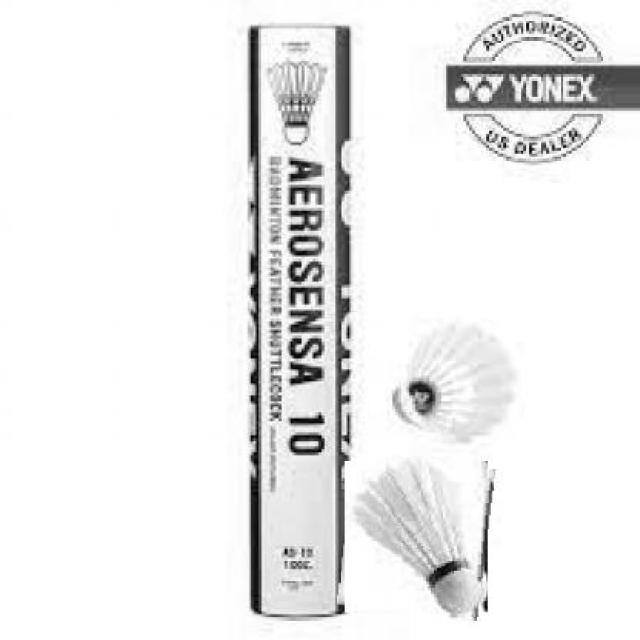Shuttlecock: (350, 457, 480, 614)
